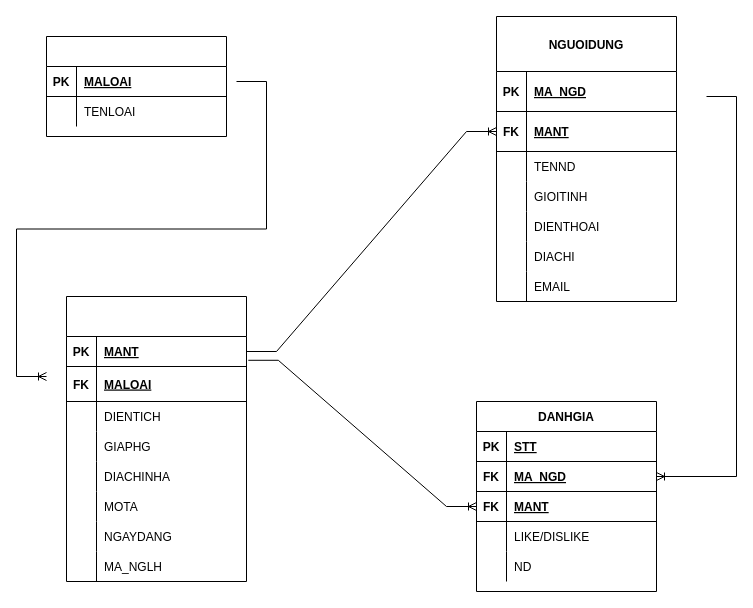
The diagram is 753 pixels wide and 608 high, and some of its shapes have lost their labels. Each missing label, with the box of its shape:
LOAINHA: (46, 36, 226, 136)
NHATRO: (66, 296, 246, 582)
